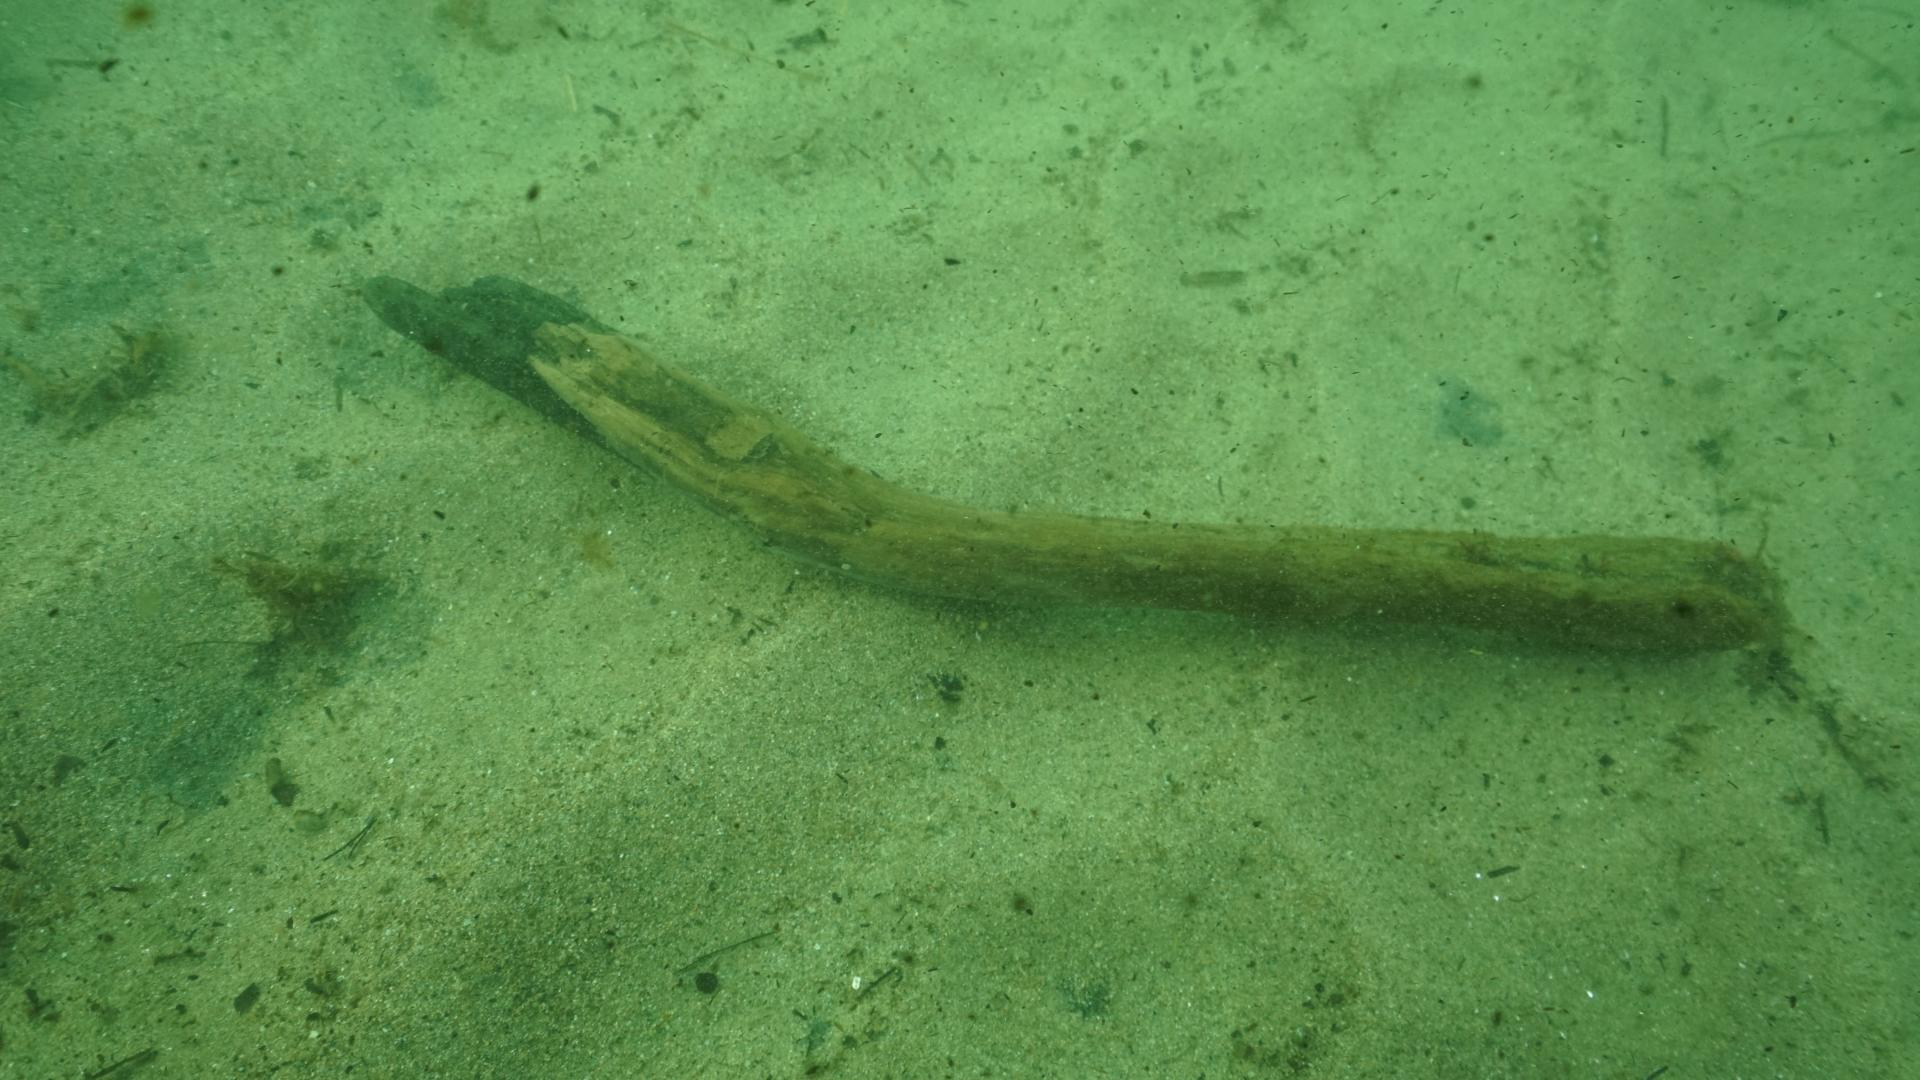wood: (356, 272, 1767, 651)
